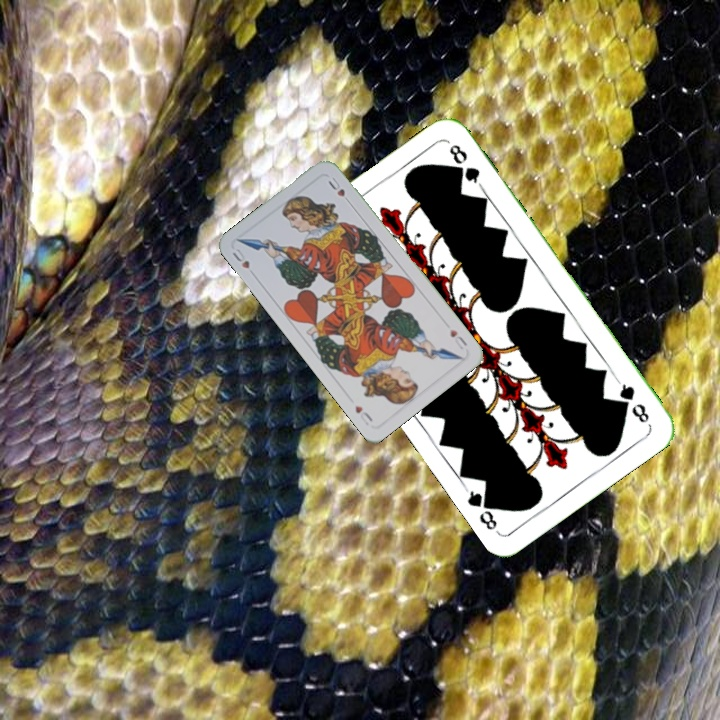G8: (613, 376, 652, 426)
HU: (446, 325, 470, 352), (228, 244, 252, 271)
